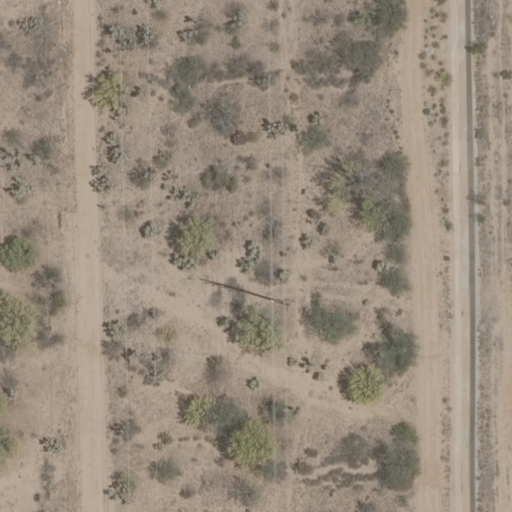DT: (264, 292, 296, 308)
